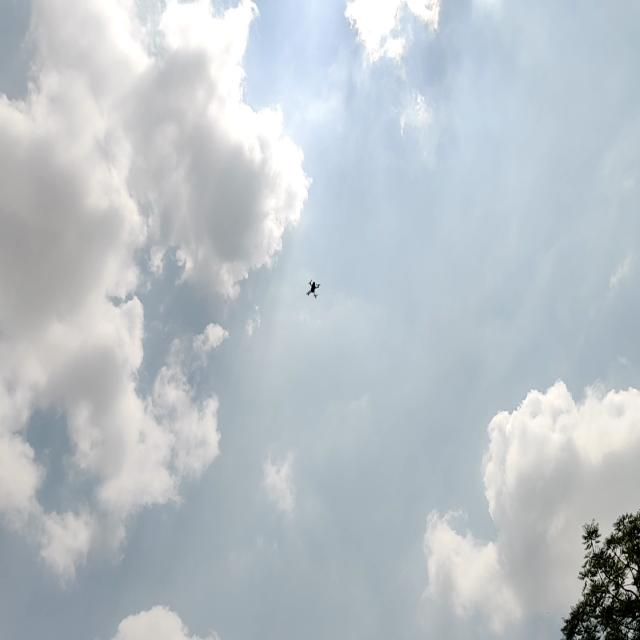drone: (302, 276, 326, 300)
